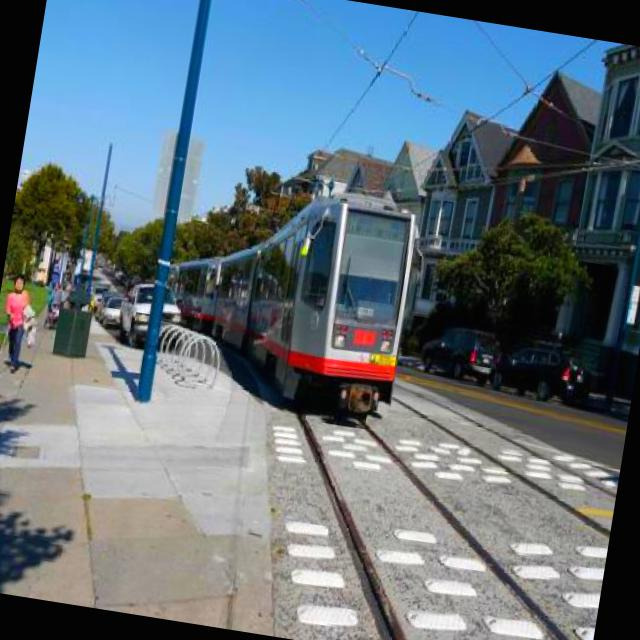Person: (0, 271, 34, 373), (48, 282, 65, 307), (46, 282, 56, 310), (48, 302, 59, 326)
